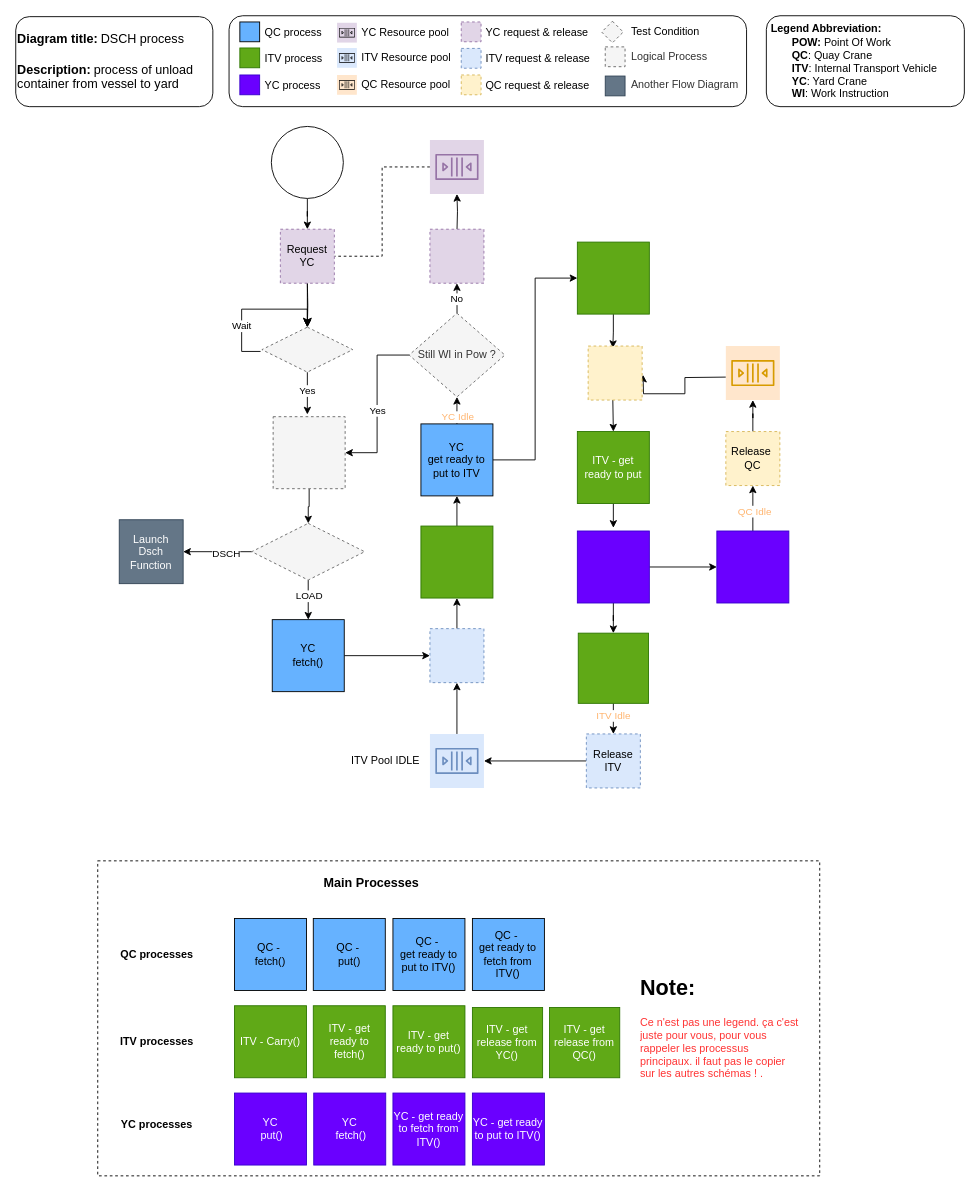
Image size: 980x1192. Some labels were removed from this diagram. Here are the shapes that lost their labels. From the top down, the box of each, then its label:
(270, 126, 343, 198): Start POW_ID
(429, 139, 484, 194): YC Pool IDLE
(429, 228, 484, 283): Release YC
(576, 241, 649, 314): ITV - Carry
(261, 326, 353, 372): start work ?
(587, 345, 642, 400): Request QC
(725, 345, 780, 400): QC Pool IDLE
(272, 416, 345, 489): Select WI
(251, 522, 365, 580): Move kind ?
(420, 525, 493, 598): ITV - get ready to fetch
(576, 530, 649, 603): QC - get ready to fetch from ITV
(716, 530, 789, 603): QC put()
(429, 628, 484, 683): Request ITV
(577, 632, 648, 703): ITV - get release from QC
